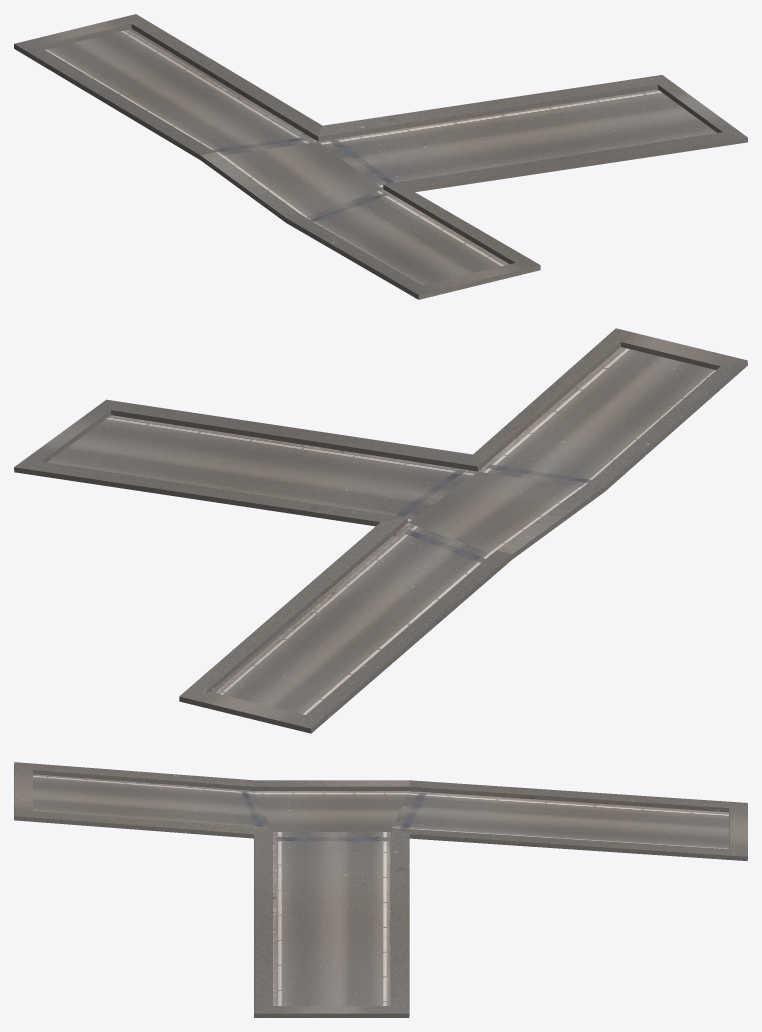
Rendered from PS1AssetsRoad.fbx.
The picture shows the model from 3 angles, top to bottom: view 1: azimuth 30°, elevation 25°; view 2: azimuth 150°, elevation 25°; view 3: azimuth 270°, elevation 25°; orthographic projection. The views are drawn at different scales.
Visible parts, largest first — view 1: Plane; view 2: Plane; view 3: Plane.
Part boxes in pixels (x1,y1,x2,y2): Plane: (14,14,747,299); Plane: (14,328,747,733); Plane: (14,762,747,1017).
Size of the model in its own units: 757 by 88.98 by 1149.
